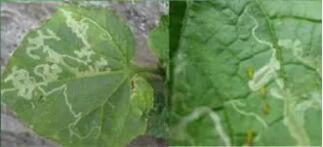liriomyza: (1, 6, 114, 140), (243, 8, 323, 147), (165, 105, 233, 147), (225, 97, 269, 129)
